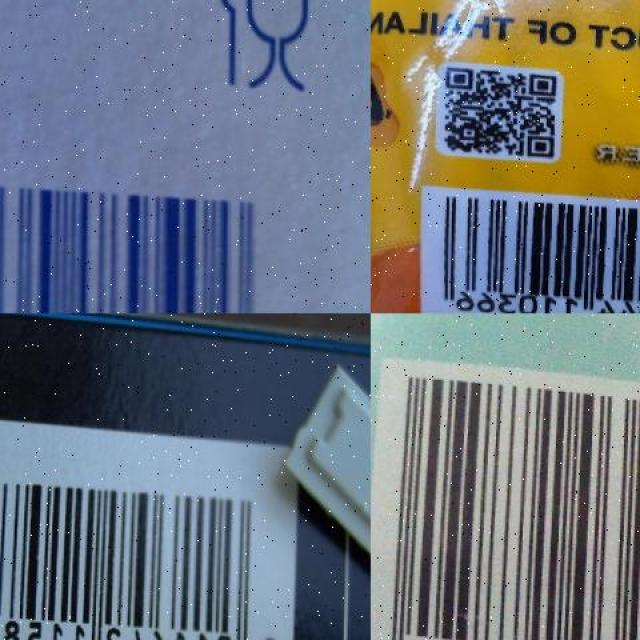Barcode: (370, 353, 640, 639), (0, 408, 296, 640), (0, 138, 313, 313), (422, 183, 640, 313)
